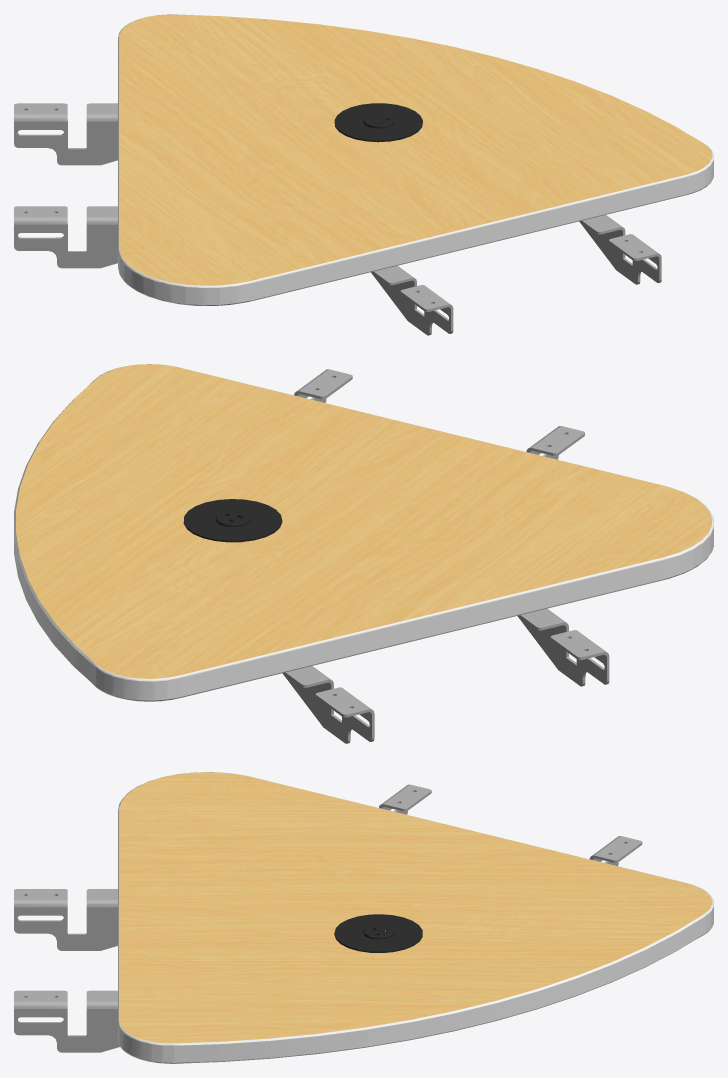
The model's file is HSU060000_120_GROMMET.glb.
3 renders of one model, top to bottom at view 1: azimuth 30°, elevation 25°; view 2: azimuth 150°, elevation 25°; view 3: azimuth 270°, elevation 25°, orthographic. The views are drawn at different scales.
Visible parts, largest first — view 1: 4 (×2), 13, 16, 15, 14, 17; view 2: 4 (×2), 16, 13, 17, 15, 14; view 3: 4 (×2), 15, 14, 17, 16, 13.
Part boxes in pixels (bbox=[...]): 4 (×2): bbox=[118, 14, 713, 305]; 13: bbox=[14, 103, 117, 165]; 16: bbox=[14, 206, 117, 268]; 15: bbox=[579, 215, 661, 284]; 14: bbox=[371, 265, 453, 335]; 17: bbox=[334, 103, 422, 142]; 4 (×2): bbox=[14, 364, 713, 701]; 16: bbox=[517, 608, 609, 686]; 13: bbox=[282, 666, 374, 743]; 17: bbox=[183, 499, 282, 542]; 15: bbox=[294, 369, 352, 402]; 14: bbox=[526, 426, 584, 459]; 4 (×2): bbox=[118, 772, 713, 1063]; 15: bbox=[14, 990, 119, 1052]; 14: bbox=[14, 889, 117, 950]; 17: bbox=[334, 914, 422, 952]; 16: bbox=[379, 784, 431, 814]; 13: bbox=[589, 836, 642, 865].
Size of the model in its own units: 0.7424 by 0.0898 by 0.7812.
4 materials, 1 textured.
